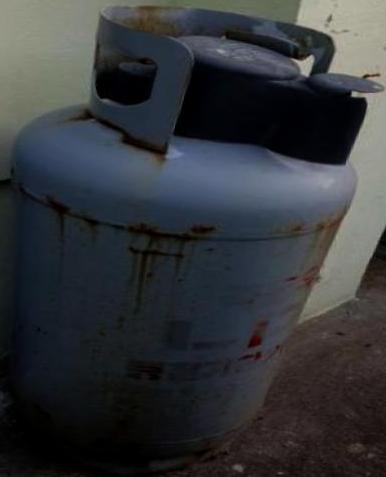cylinder: (1, 1, 386, 477)
